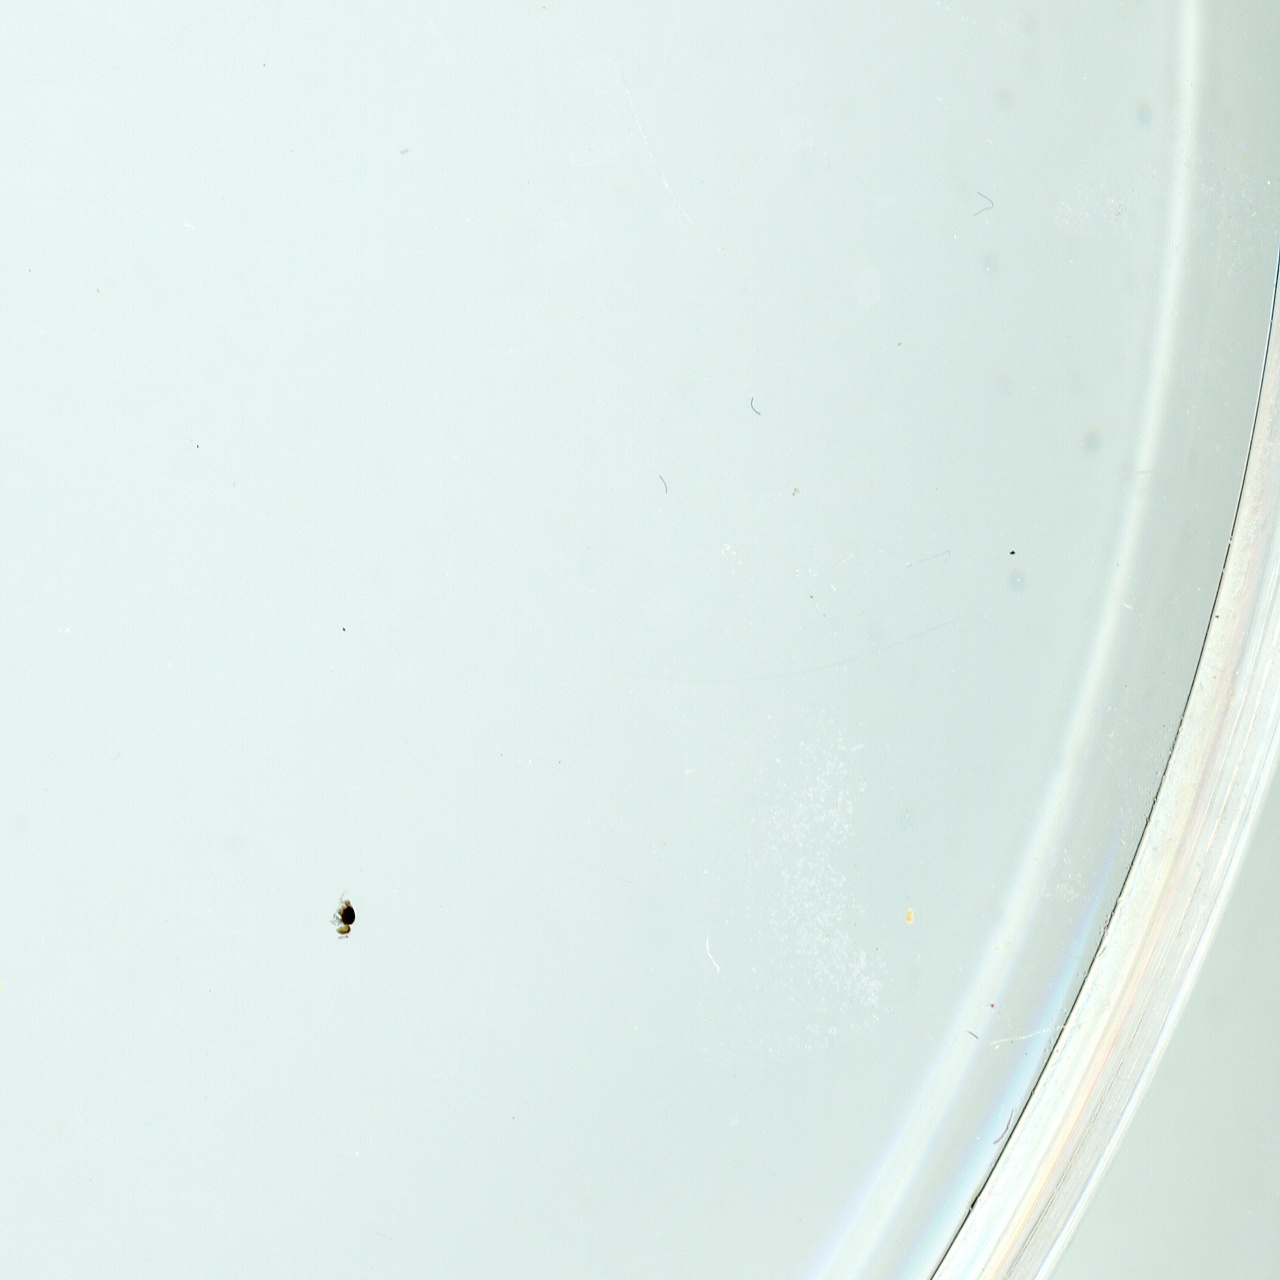arthropod: (327, 887, 360, 942)
